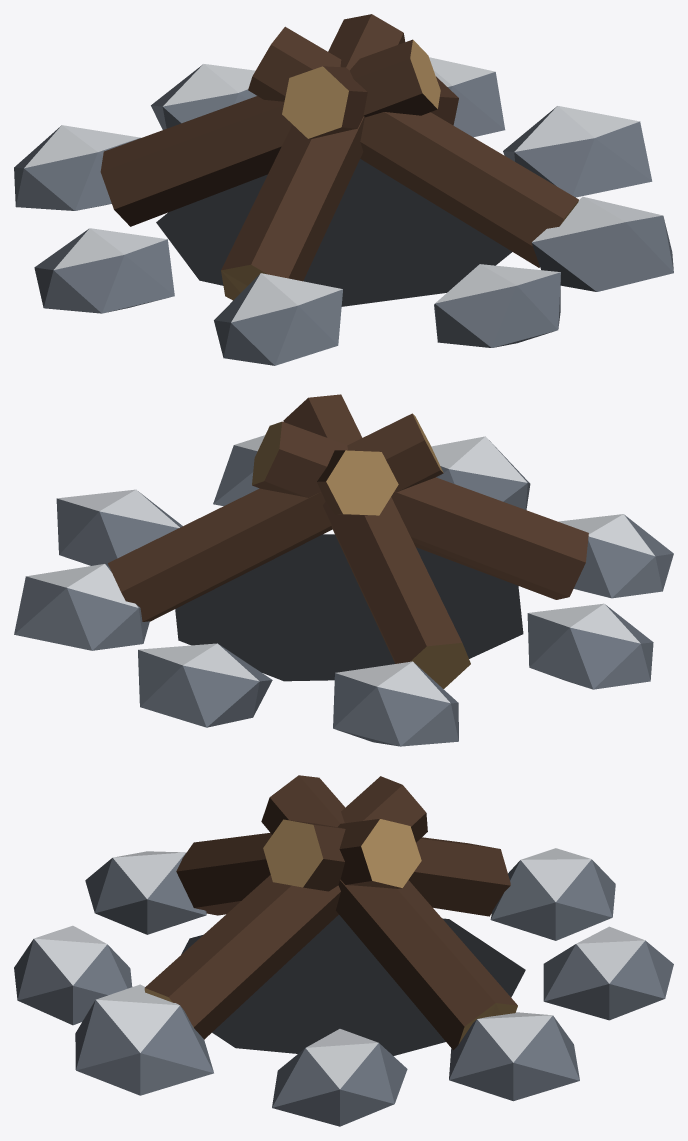
The model's file is campfire.glb.
3 views of the same model, one above another, from view 1: azimuth 30°, elevation 25°; view 2: azimuth 150°, elevation 25°; view 3: azimuth 270°, elevation 25° (orthographic).
Visible parts, largest first — view 1: Stones, Logs; view 2: Stones, Logs; view 3: Stones, Logs.
Boxes of the visible parts, x1=… form: Stones: x1=14, y1=57, x2=673, y2=365; Logs: x1=100, y1=14, x2=578, y2=300; Stones: x1=14, y1=435, x2=673, y2=746; Logs: x1=108, y1=394, x2=588, y2=688; Stones: x1=14, y1=848, x2=673, y2=1126; Logs: x1=144, y1=775, x2=517, y2=1050.
Bounding box in the file's own units: 1.21 × 0.3724 × 1.17.
